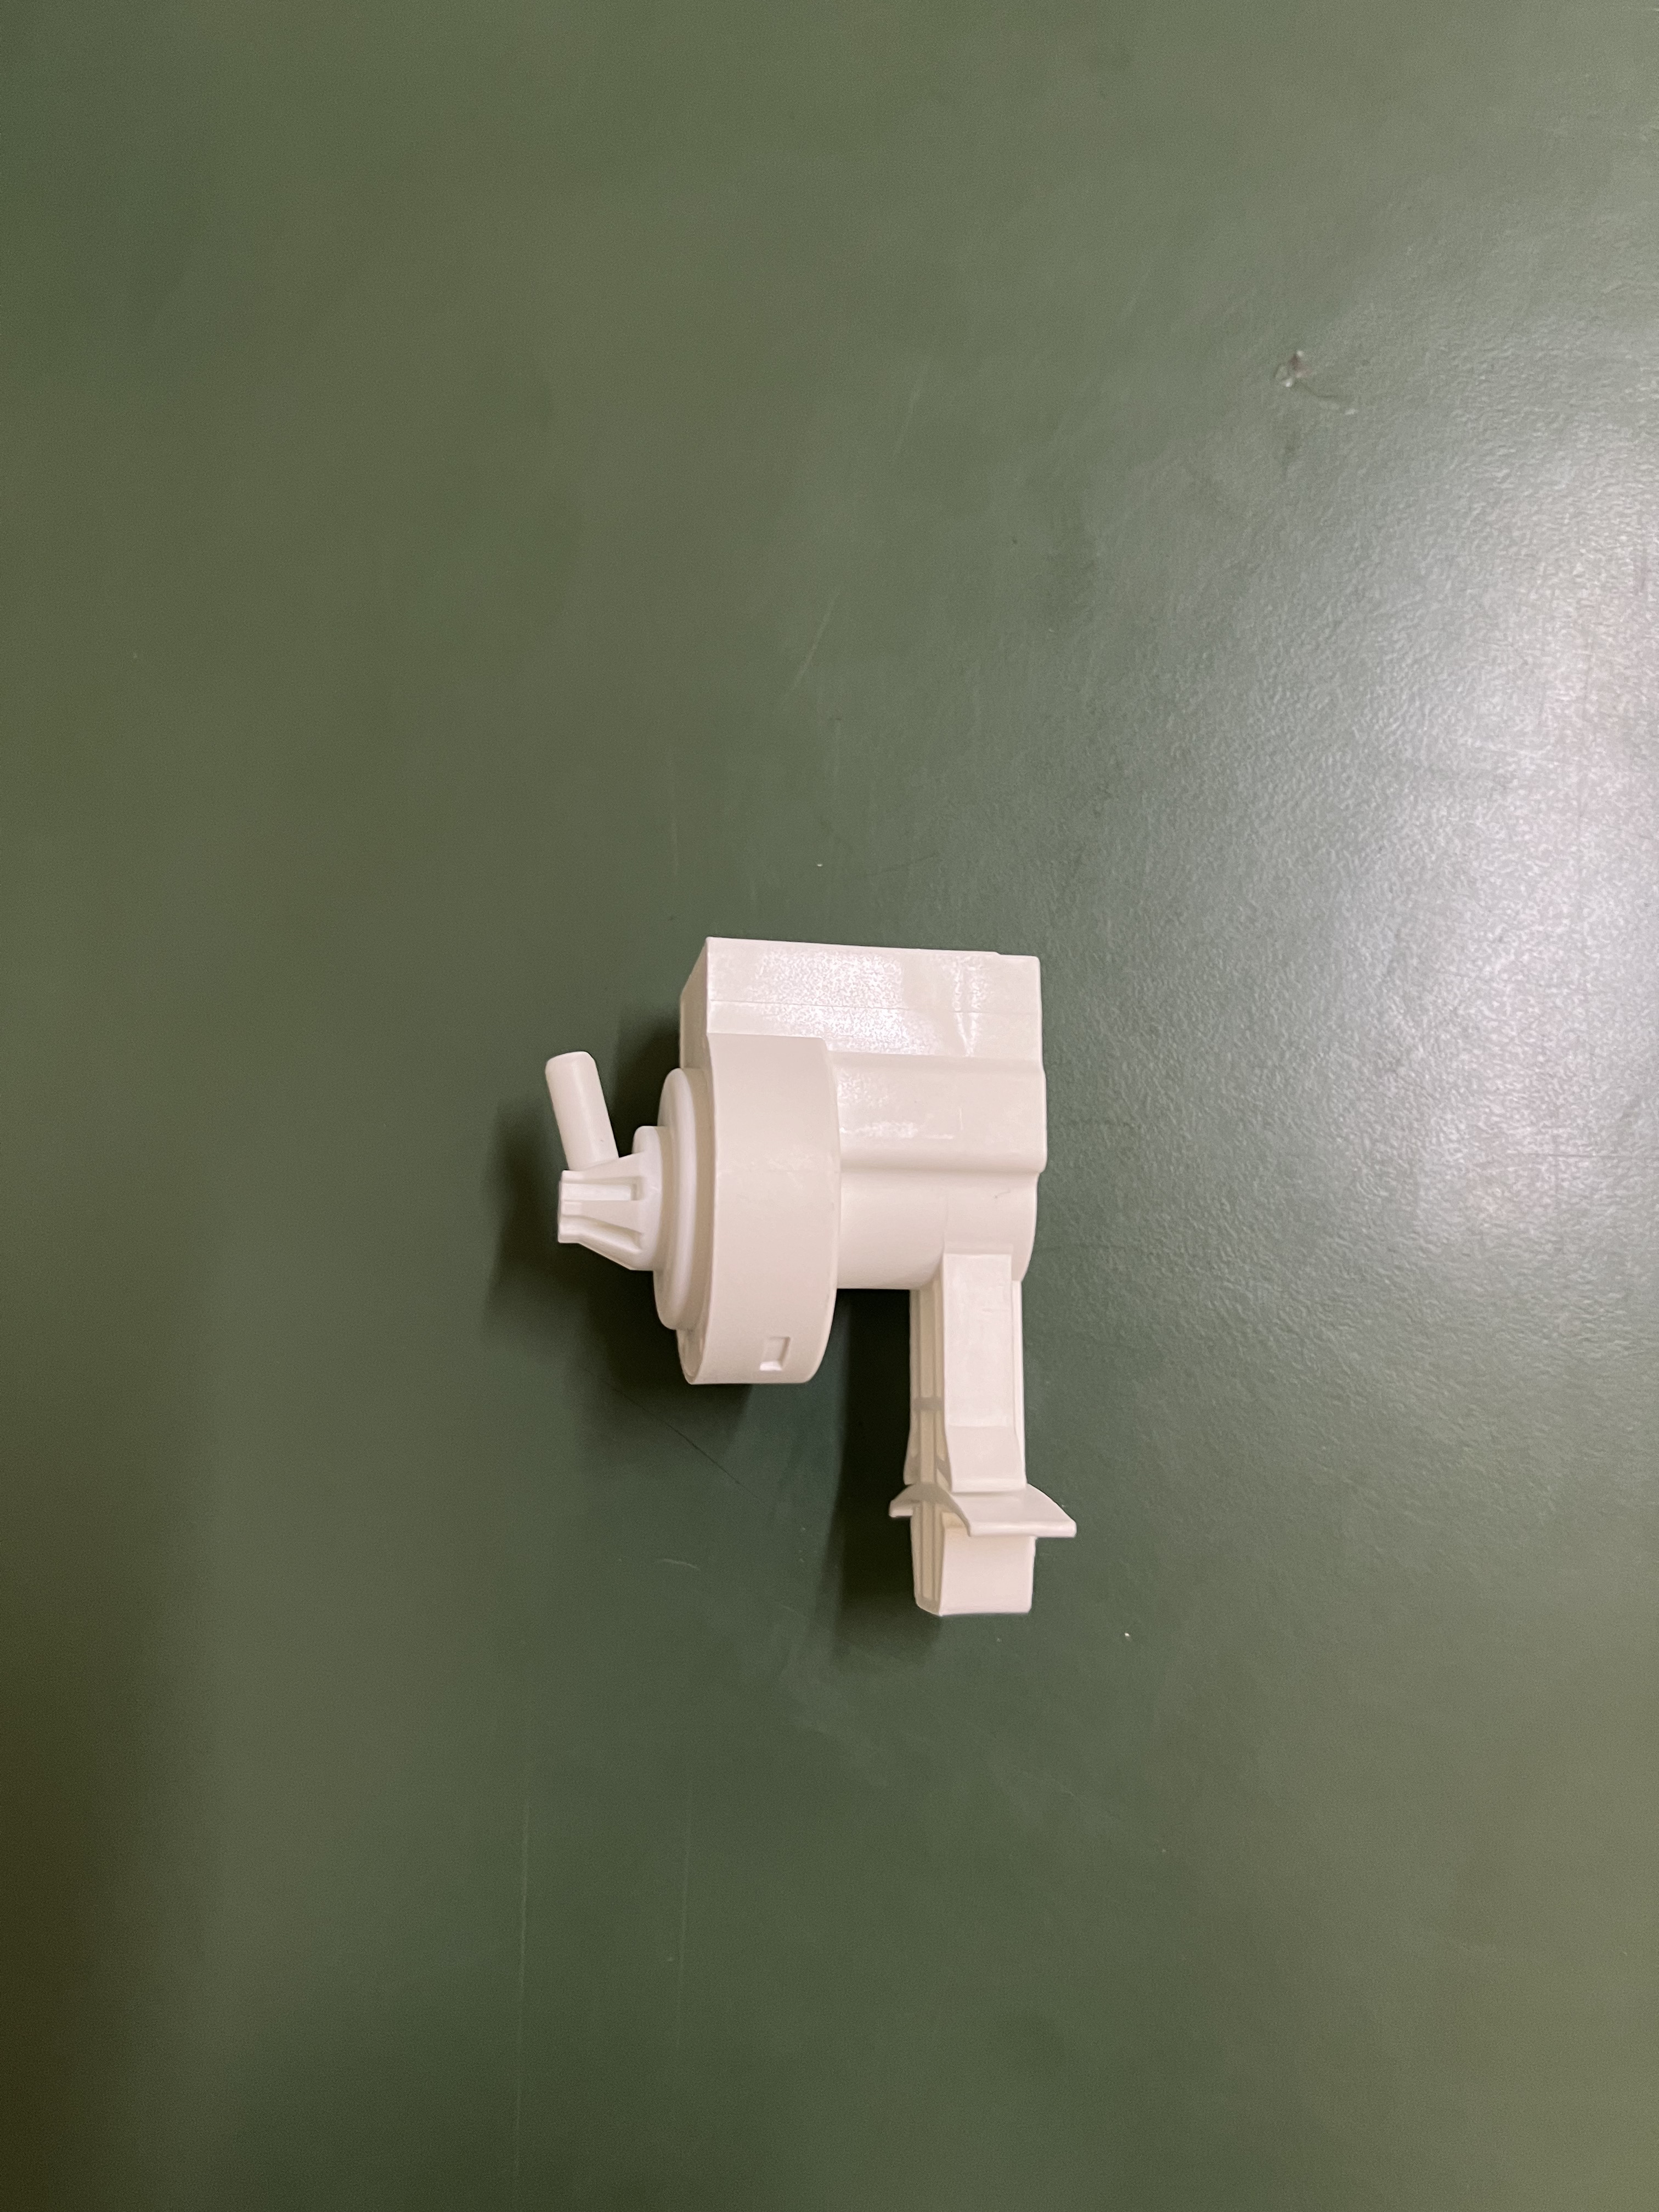pressure_switch_1: (523, 918, 1107, 1698)
